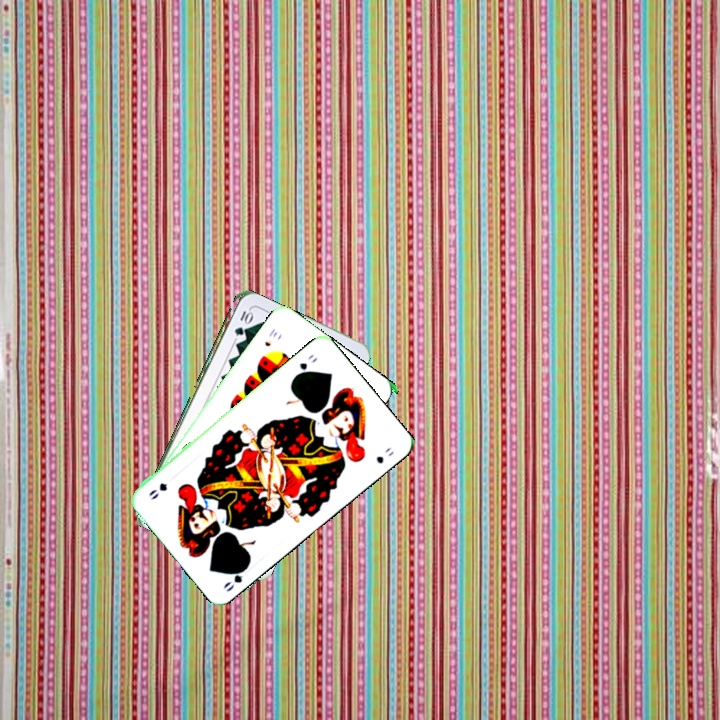G10: (230, 306, 253, 338)
GO: (219, 561, 252, 594), (290, 350, 320, 381)
S10: (260, 324, 281, 349)
